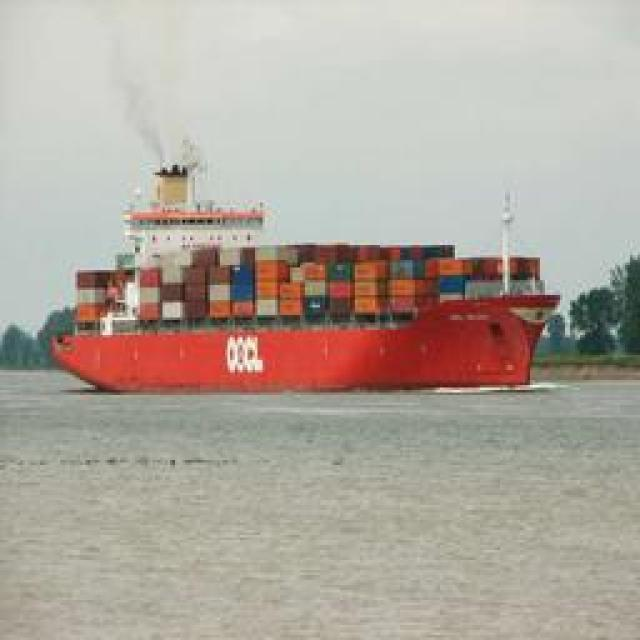CIV_Ship: (39, 176, 554, 392)
